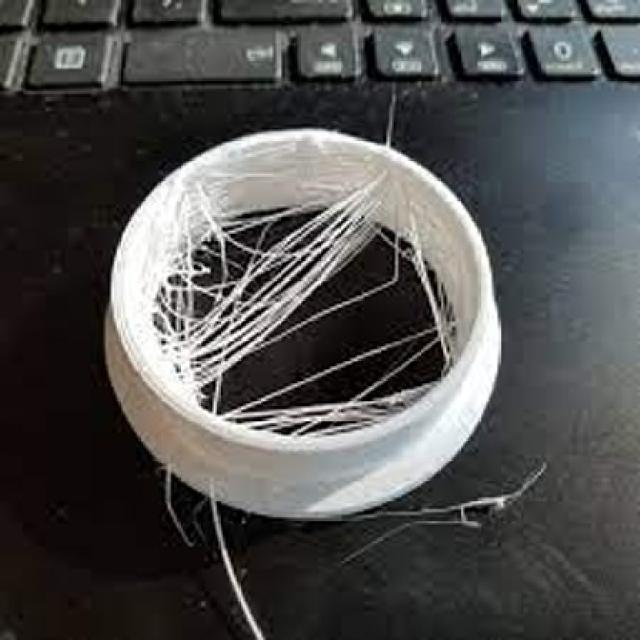spaghetti: (105, 122, 489, 455), (362, 497, 566, 540)
